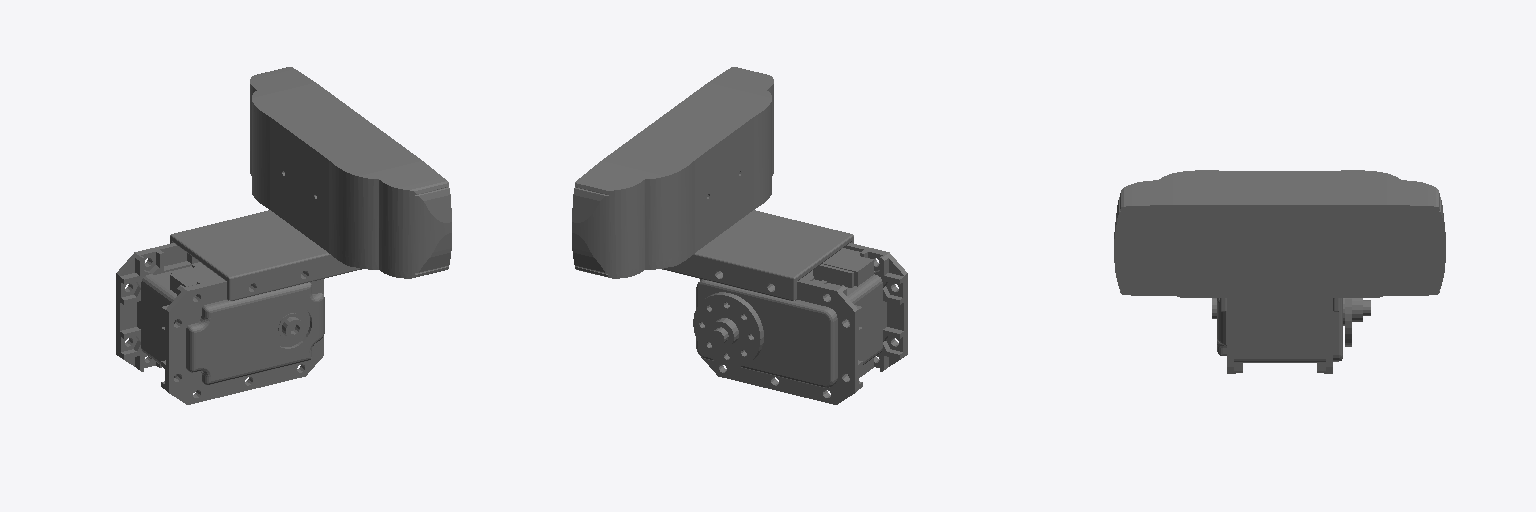
The model's file is Head.obj.
3 renders of one model, left to right at view 1: azimuth 30°, elevation 25°; view 2: azimuth 150°, elevation 25°; view 3: azimuth 270°, elevation 25°, orthographic.
Bounding box in the file's own units: 7.4 × 6.66 × 9.4.